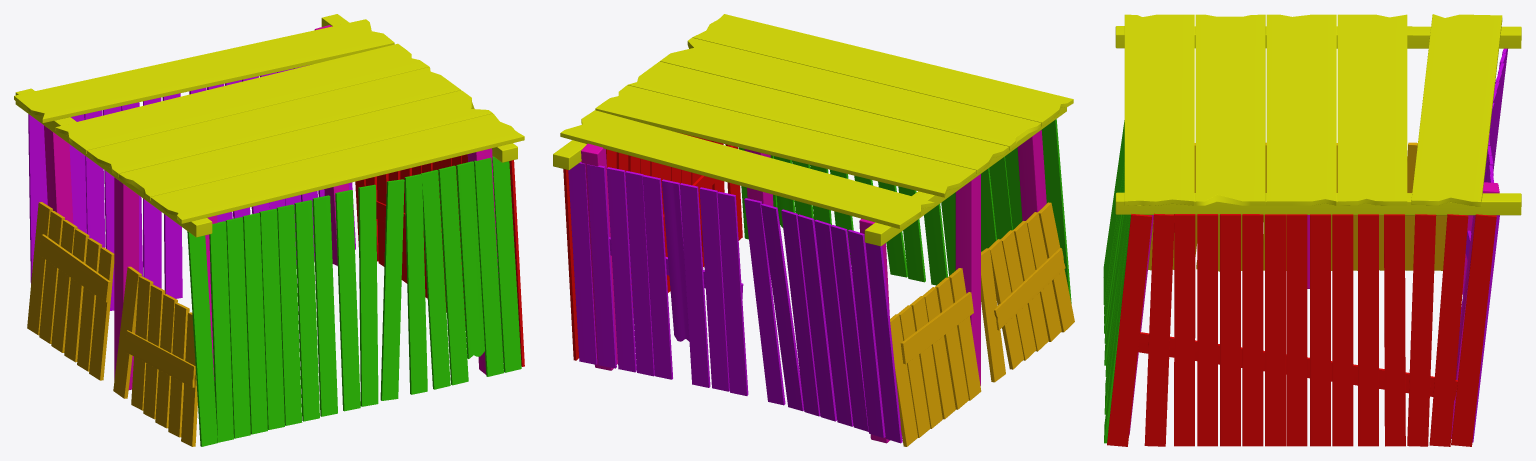
File: shack.fbx
3 views of the same model, side by side, from view 1: azimuth 30°, elevation 25°; view 2: azimuth 150°, elevation 25°; view 3: azimuth 270°, elevation 25° (orthographic). The views are drawn at different scales.
Visible parts, largest first — view 1: pCube69, pCube67, pCube65, pCube66, pCube68, pCube41, pCube44, pCube42, pCube43, pCube34, pCube35, pCube38 (+38 smaller); view 2: pCube67, pCube66, pCube65, pCube69, pCube68, pCube19, pCube18, pCube23, pCube21, pCube25, pCube24, pCube20 (+39 smaller); view 3: pCube65, pCube69, pCube66, pCube67, pCube68, pCube5, pCube2, pCube11, pCube4, pCube13, pCube14, pCube9 (+16 smaller).
Boxes of the visible parts, x1,y1,x2,y2 form: pCube69: (150,113,524,223); pCube67: (14,19,394,122); pCube65: (87,67,460,177); pCube66: (55,43,429,153); pCube68: (118,90,492,200); pCube41: (358,184,378,406); pCube44: (294,200,319,421); pCube42: (335,190,360,411); pCube43: (312,195,337,416); pCube34: (380,179,404,400); pCube35: (404,174,427,394); pCube38: (438,165,468,385); pCube67: (560,110,934,228); pCube66: (595,85,976,197); pCube65: (628,61,1008,173); pCube69: (692,14,1073,126); pCube68: (660,37,1041,150); pCube19: (606,167,636,372); pCube18: (587,164,616,368); pCube23: (680,183,710,387); pCube21: (642,175,672,379); pCube25: (717,191,748,395); pCube24: (699,187,729,391); pCube20: (625,171,654,376); pCube65: (1266,14,1336,205); pCube69: (1124,14,1194,205); pCube66: (1337,14,1407,205); pCube67: (1411,14,1502,206); pCube68: (1195,14,1265,205); pCube5: (1242,214,1263,446); pCube2: (1286,214,1307,446); pCube11: (1332,214,1353,446); pCube4: (1107,214,1151,446); pCube13: (1451,214,1496,446); pCube14: (1429,214,1468,446); pCube9: (1144,213,1174,446).
Bounding box in the file's own units: 21.23 × 13.56 × 19.95.
